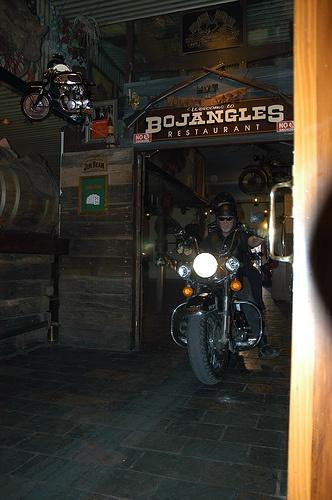tampered: (21, 65, 96, 126)
